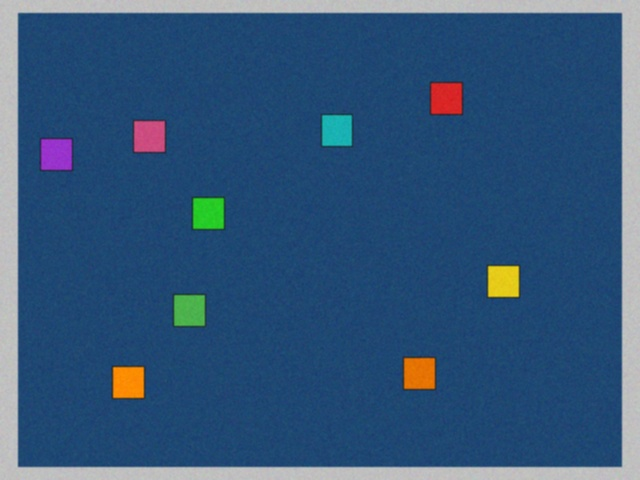block: (112, 359, 154, 398), (41, 138, 86, 174), (425, 82, 463, 121), (134, 121, 174, 158), (399, 351, 436, 390), (478, 264, 519, 297), (173, 292, 211, 327), (321, 115, 353, 152), (193, 198, 230, 230)
